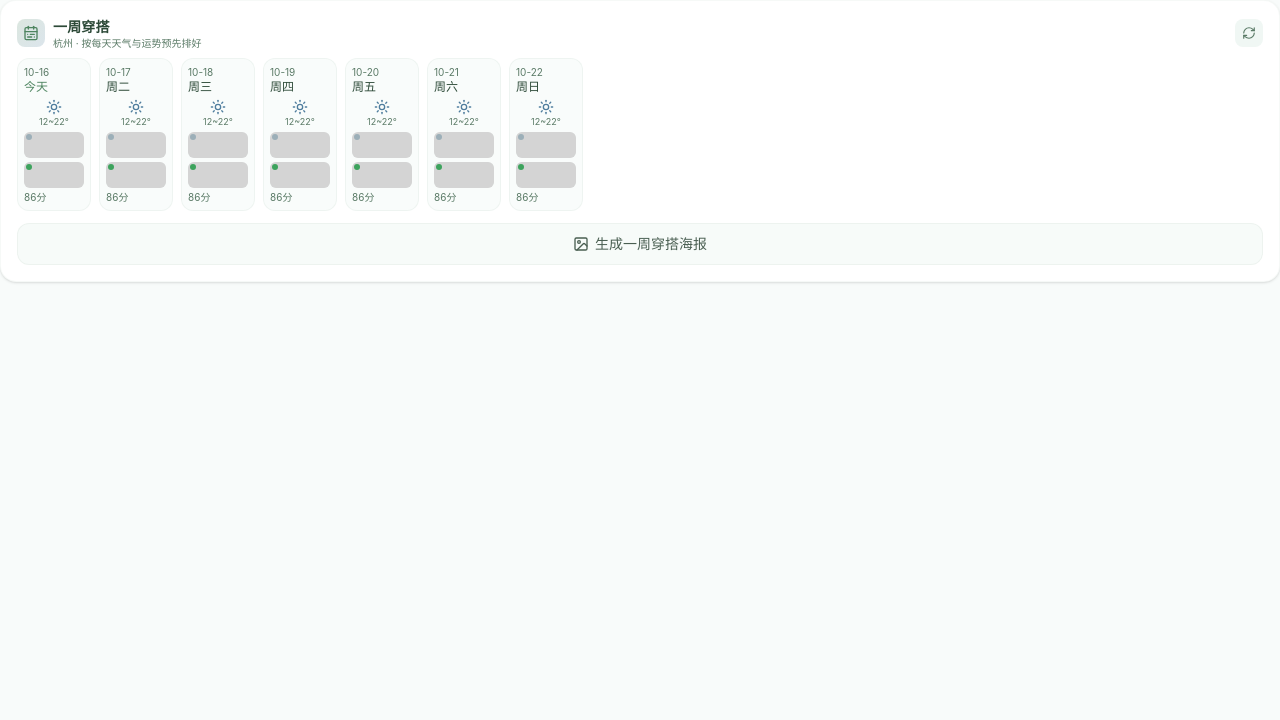
Scenario: WeeklyOutfitCalendar › 单日换一套按批次请求并只覆盖当天
Click the button "10-18 周三 12~22° 86分": (218, 134) x1=181 y1=58 x2=255 y2=210
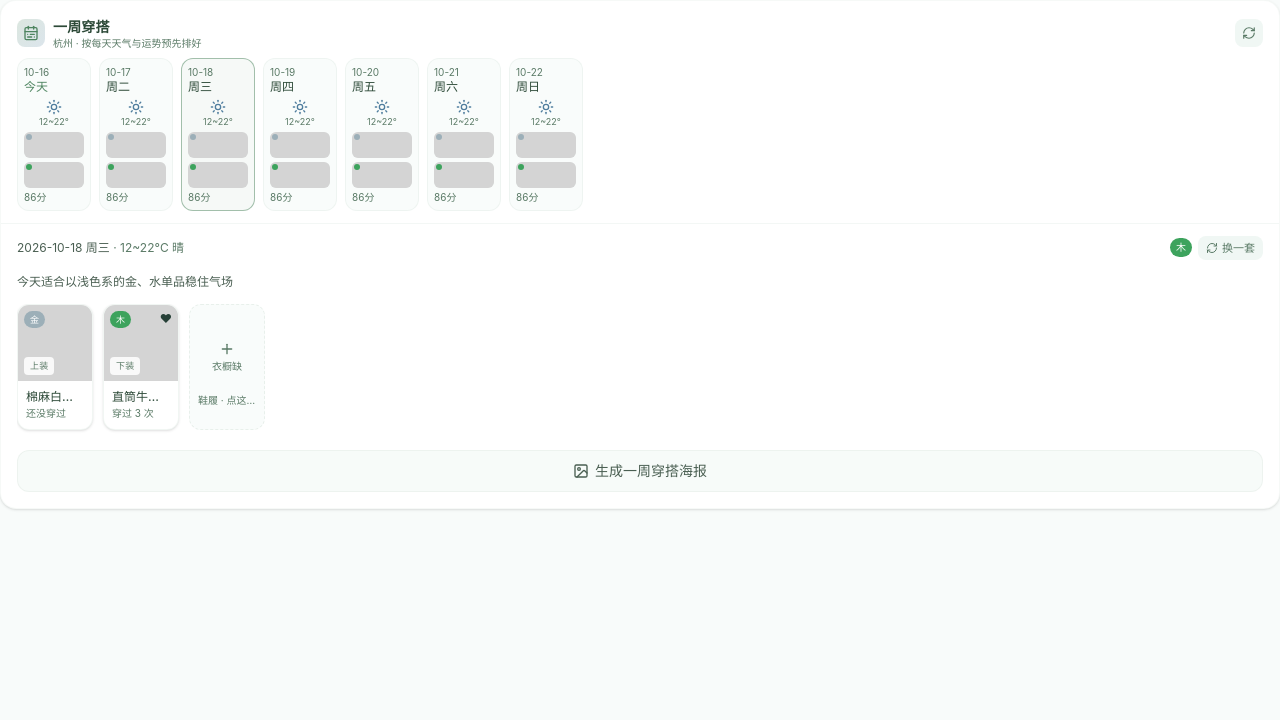
Now the text "棉麻白衬衫" is shown, box x1=26 y1=388 x2=74 y2=418
Click the button "换一套": (1230, 248) x1=1198 y1=236 x2=1263 y2=260
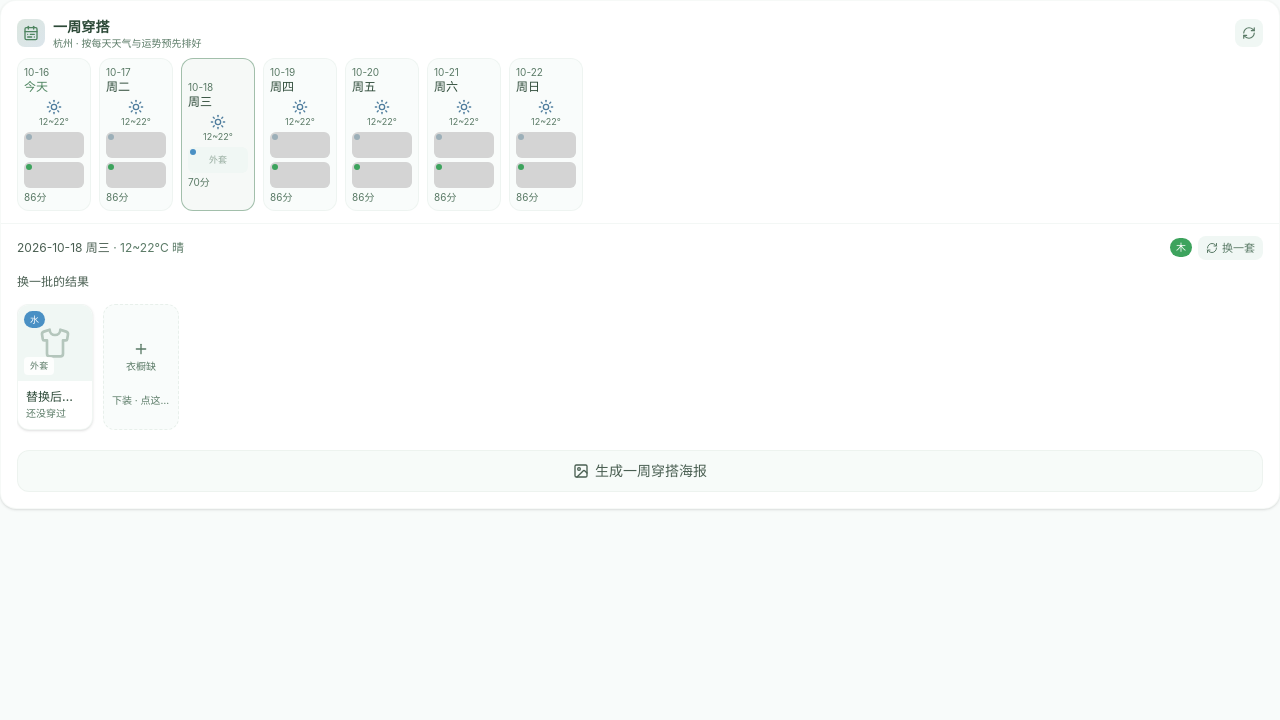
Now the text "替换后的外套" is shown, box x1=26 y1=388 x2=74 y2=418
Now the button "棉麻白衬衫" is gone
